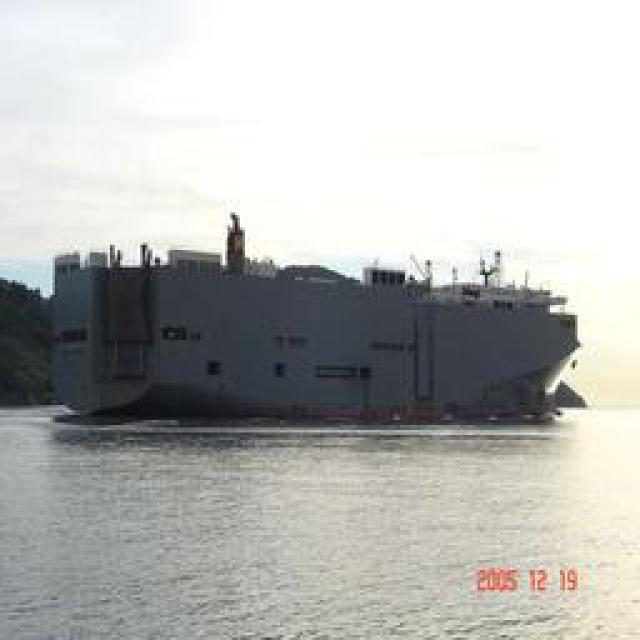Ship: (52, 246, 575, 431)
